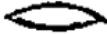Mouth: (3, 1, 107, 33)
